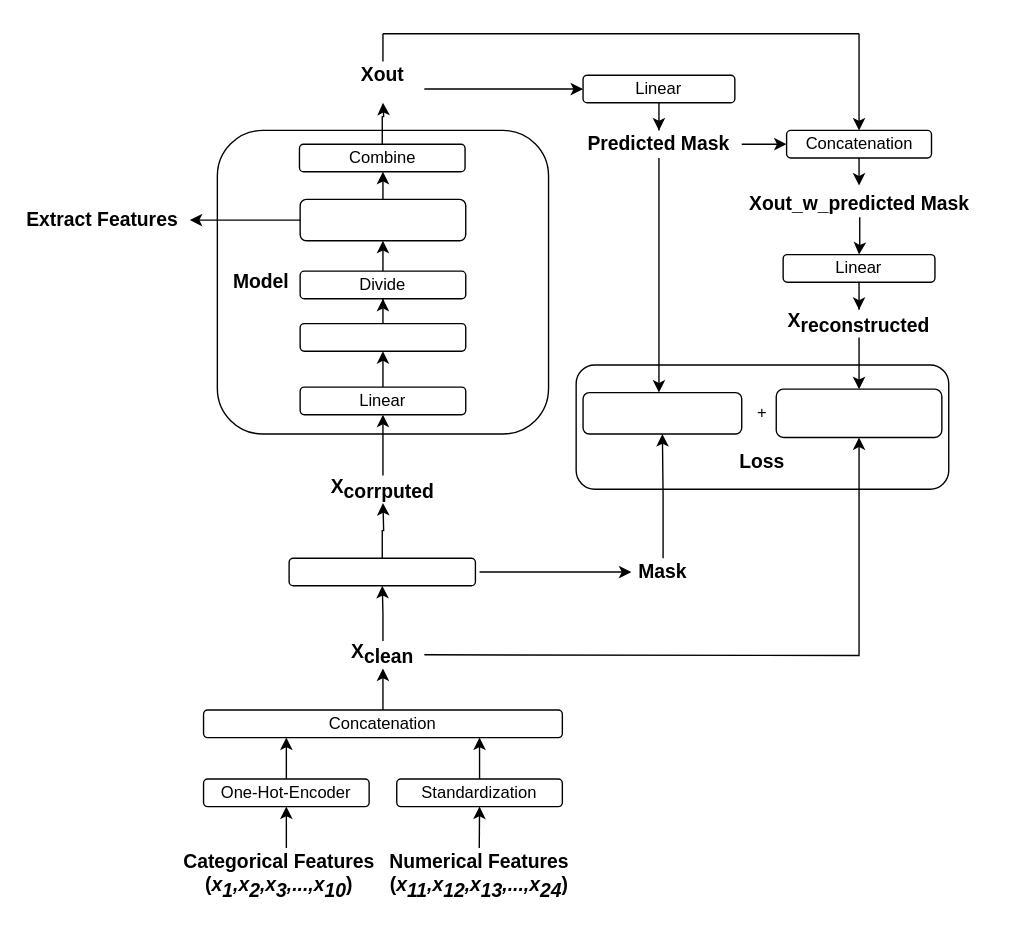
Some shapes in this 1010 by 925 pixel diagram are drawn without their labels. The centre of each missing label's shape, as x and y in pixels:
"Apply Swap Noise" goes at [381,571].
"Mask Loss" goes at [662,412].
"Reconstruction Loss" goes at [858,412].
"ReLU" goes at [382,336].
"Transformer Encoder x 3" goes at [382,219].
